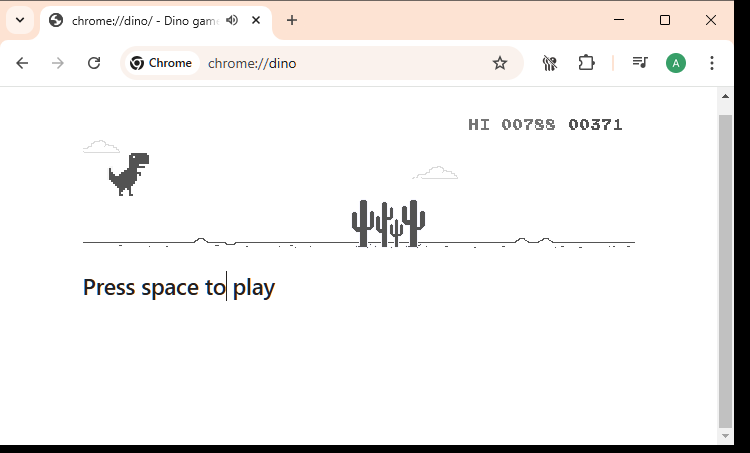cactus: (351, 199, 375, 248), (402, 200, 426, 247), (375, 201, 393, 248), (390, 219, 403, 248)
dino: (108, 152, 150, 197)
